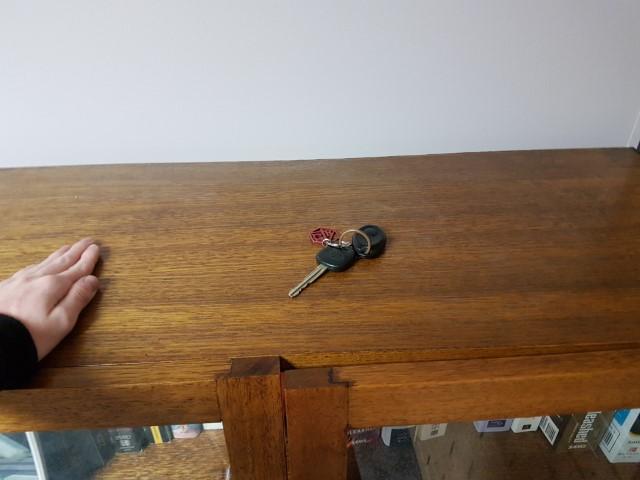key: (286, 239, 354, 299)
